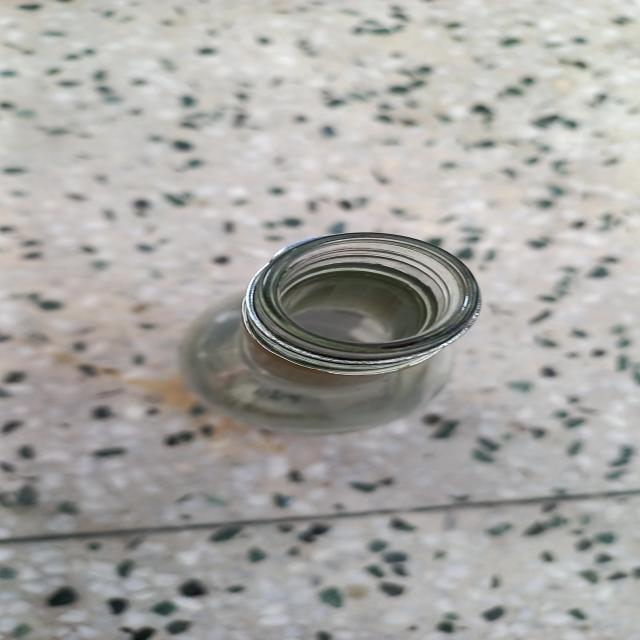Glass: (180, 232, 484, 437)
